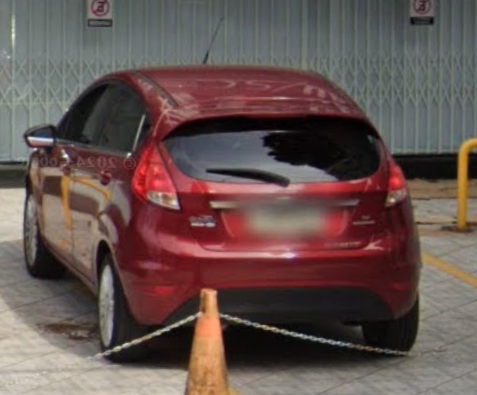car: (20, 64, 423, 360)
